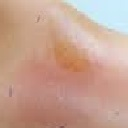Cellulitis: (50, 33, 94, 72)
